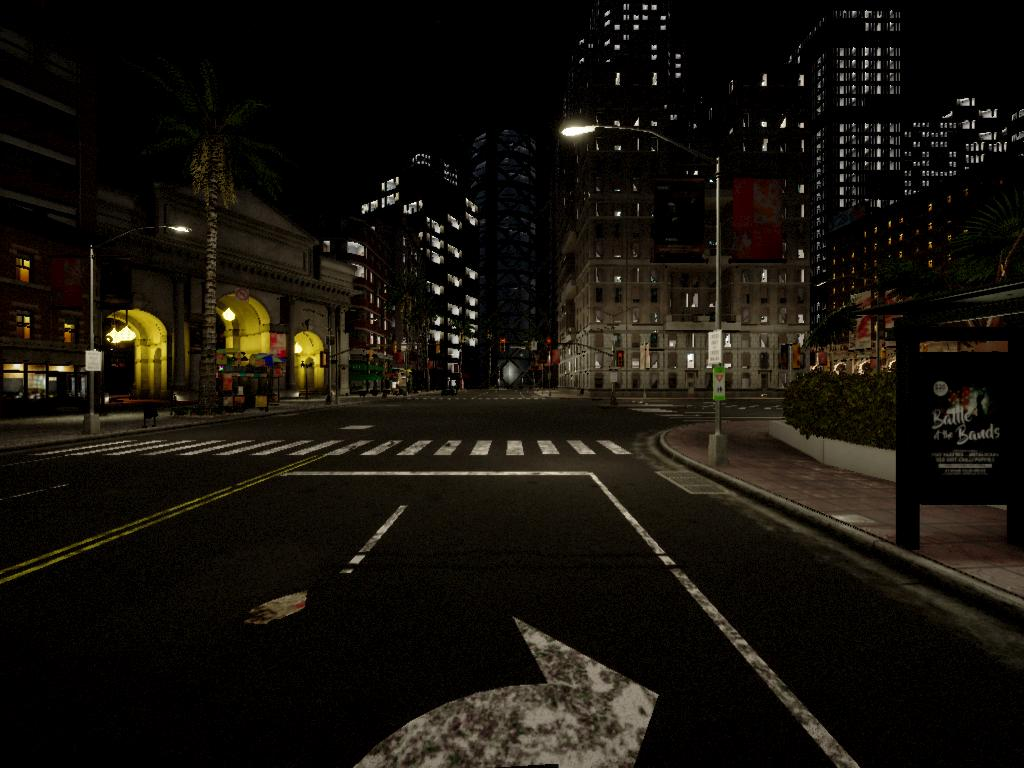traffic_light: (613, 350, 625, 367), (500, 339, 508, 353), (546, 339, 553, 353), (436, 343, 441, 355), (393, 343, 398, 355)
